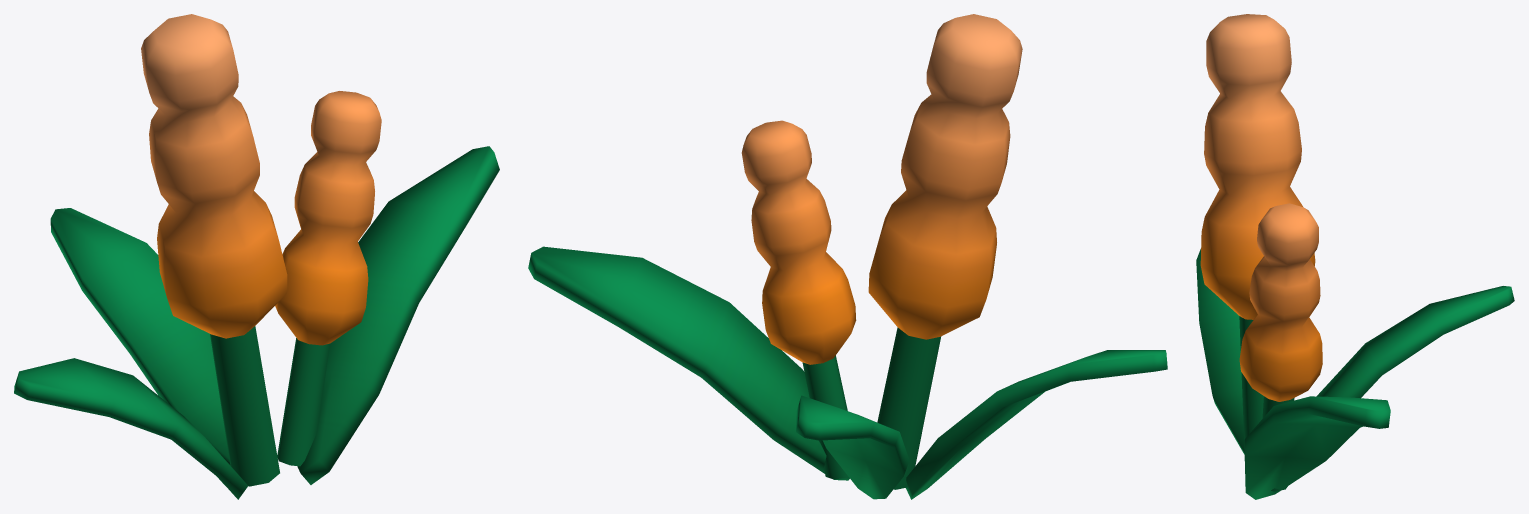
The model's file is Flover_02.03.fbx.
3 renders of one model, left to right at view 1: azimuth 30°, elevation 25°; view 2: azimuth 150°, elevation 25°; view 3: azimuth 270°, elevation 25°, orthographic. The views are drawn at different scales.
Parts seen in each view (by area): view 1: Flover_02.03; view 2: Flover_02.03; view 3: Flover_02.03.
Part boxes in pixels (<box>): Flover_02.03: <box>14,14,499,499</box>; Flover_02.03: <box>528,14,1167,499</box>; Flover_02.03: <box>1196,14,1514,499</box>.
Bounding box in the file's own units: 52.79 × 29.67 × 44.01.
